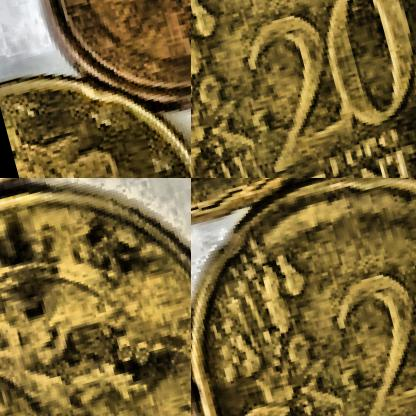coin: (191, 178, 415, 415), (0, 178, 190, 415), (191, 0, 415, 177), (0, 0, 190, 141)
